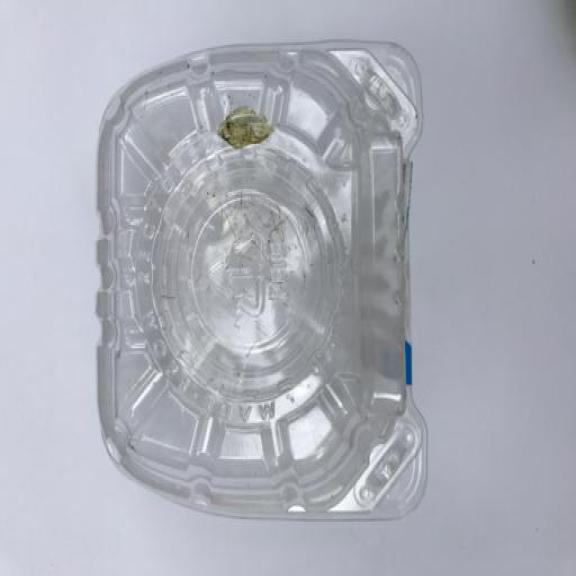Plastik: (86, 31, 438, 525)
